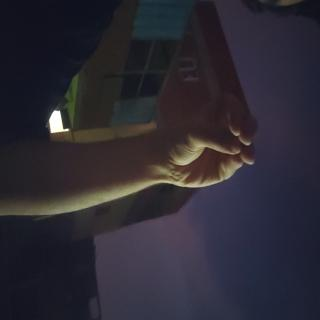HA: (59, 77, 151, 217)
